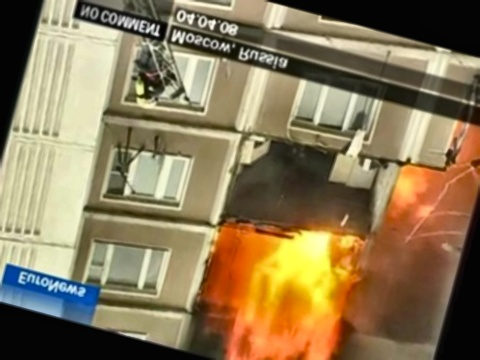fire: (191, 189, 376, 360), (377, 155, 464, 252)
smoke: (347, 240, 457, 360)
